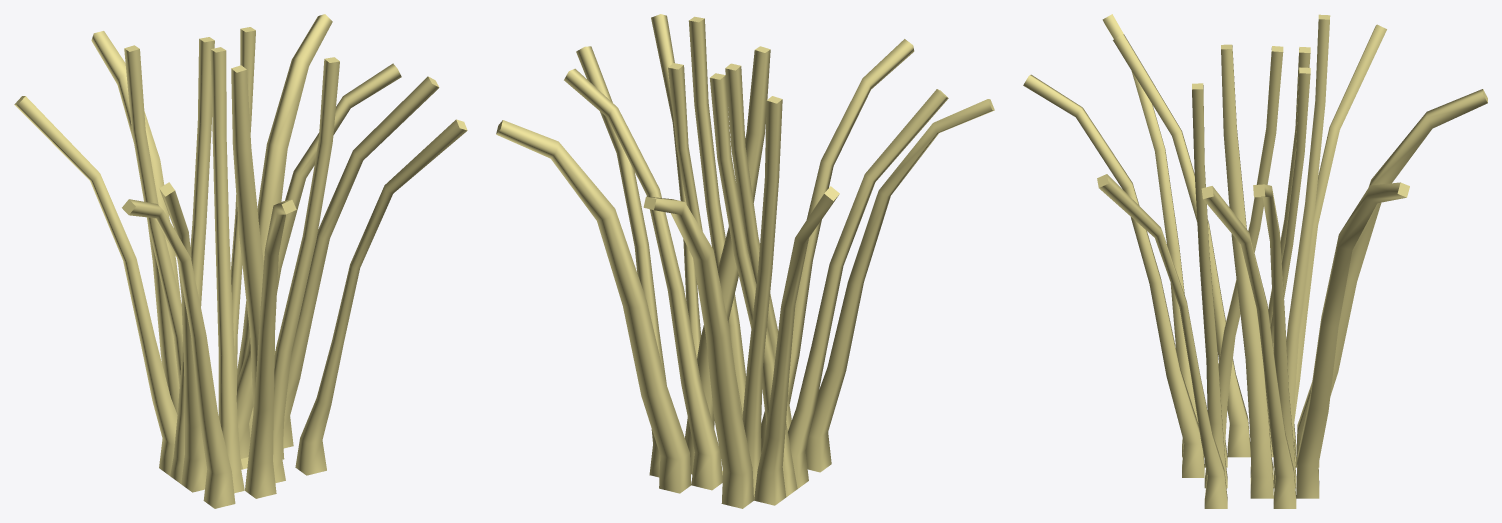
File: pflanzen01.FBX
The picture shows the model from 3 angles, left to right: view 1: azimuth 30°, elevation 25°; view 2: azimuth 150°, elevation 25°; view 3: azimuth 270°, elevation 25°; orthographic projection. The views are drawn at different scales.
Parts seen in each view (by area): view 1: pflanze01; view 2: pflanze01; view 3: pflanze01.
Boxes of the visible parts, bbox=[...] form: pflanze01: bbox=[14, 14, 467, 508]; pflanze01: bbox=[496, 14, 994, 508]; pflanze01: bbox=[1023, 14, 1487, 508].
Bounding box in the file's own units: 16.05 × 17.53 × 17.42.
